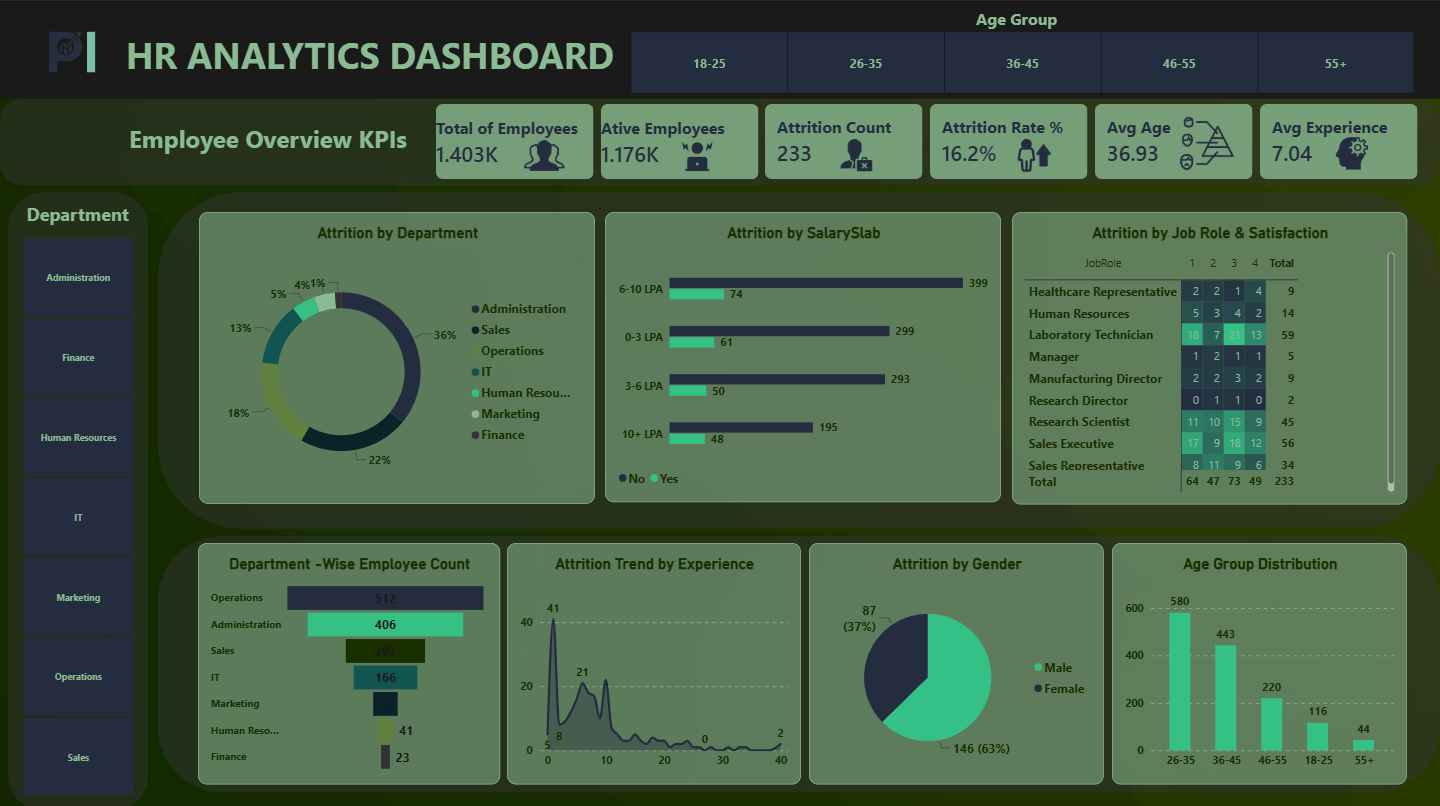

The dashboard page shown, as its layout file describes it:
{"tool":"powerbi","page":{"name":"Page 1","canvas":[1920,1080],"ordinal":0},"visuals":[{"type":"shape","box":[10.7,254.2,186.8,825.3],"z":0},{"type":"shape","box":[210.7,713.2,1709.3,341.9],"z":1000},{"type":"cardVisual","fields":{"Data":["Count(hr_analytics hr_analytics-4.EmpID)"]},"box":[801.5,137.3,210.7,100],"z":2000,"group":"g1"},{"type":"shape","box":[210.7,254.7,1709.3,449.3],"z":2000},{"type":"textbox","box":[0,0,1920,130.1],"z":3000},{"type":"cardVisual","fields":{"Data":["Sum(hr_analytics hr_analytics-4.AttritionCount)"]},"box":[1021.2,137.3,210.7,100],"z":3000,"group":"g1"},{"type":"shape","box":[0,130.1,1920,114.8],"z":4000},{"type":"cardVisual","fields":{"Data":["hr_analytics hr_analytics-4.Attrition Rate"]},"box":[1240.8,137.3,210.7,100],"z":4000,"group":"g1"},{"type":"cardVisual","fields":{"Data":["Count(hr_analytics hr_analytics-4.EmpID)"]},"box":[581.9,137.3,210.7,100],"z":5000,"group":"g1"},{"type":"group","id":"g1","title":"Group 1","box":[581.9,137.3,1308.9,100],"z":5000},{"type":"image","box":[10.3,0,170.9,135.6],"z":6000},{"type":"cardVisual","fields":{"Data":["Avg(hr_analytics hr_analytics-4.Age)"]},"box":[1460.5,137.3,210.7,100],"z":6000,"group":"g1"},{"type":"cardVisual","fields":{"Data":["Avg(hr_analytics hr_analytics-4.YearsAtCompany)"]},"box":[1680.1,137.3,210.7,100],"z":7000,"group":"g1"},{"type":"textbox","box":[171.5,160.8,399.4,55.5],"z":7000},{"type":"donutChart","title":"Attrition by Department","fields":{"Category":["hr_analytics hr_analytics-4.Department"],"Y":["Sum(hr_analytics hr_analytics-4.AttritionCount)"]},"box":[264.9,281.7,528.2,388.9],"z":8000},{"type":"clusteredBarChart","title":"Attrition by SalarySlab","fields":{"Category":["hr_analytics hr_analytics-4.SalarySlab"],"Series":["hr_analytics hr_analytics-4.Attrition"],"Y":["CountNonNull(hr_analytics hr_analytics-4.EmpID)"]},"box":[806.9,281.7,528.2,387.4],"z":9000},{"type":"pivotTable","title":"Attrition by Job Role & Satisfaction","fields":{"Columns":["hr_analytics hr_analytics-4.JobSatisfaction"],"Rows":["hr_analytics hr_analytics-4.JobRole"],"Values":["Sum(hr_analytics hr_analytics-4.AttritionCount)"]},"box":[1348.9,281.7,526.7,390.4],"z":10000},{"type":"columnChart","title":"Age Group Distribution","fields":{"Category":["hr_analytics hr_analytics-4.AgeGroup"],"Y":["hr_analytics hr_analytics-4.Employees Count"]},"box":[1482.1,722.7,393.5,321.5],"z":11000},{"type":"pieChart","title":"Attrition by Gender","fields":{"Category":["hr_analytics hr_analytics-4.Gender"],"Y":["Sum(hr_analytics hr_analytics-4.AttritionCount)"]},"box":[1078.4,722.7,393.5,321.5],"z":12000},{"type":"areaChart","title":"Attrition Trend by Experience","fields":{"Category":["hr_analytics hr_analytics-4.TotalExperience_Years"],"Y":["Sum(hr_analytics hr_analytics-4.AttritionCount)"]},"box":[676.2,722.7,392,321.5],"z":13000},{"type":"funnel","title":"Department -Wise  Employee Count","fields":{"Category":["hr_analytics hr_analytics-4.Department"],"Y":["CountNonNull(hr_analytics hr_analytics-4.EmpID)"]},"box":[263.3,722.7,402.7,321.5],"z":14000},{"type":"slicer","title":"Department","fields":{"Values":["hr_analytics hr_analytics-4.Department"]},"box":[10.3,266.7,185.7,794.2],"z":15000},{"type":"slicer","title":"Age Group","fields":{"Values":["hr_analytics hr_analytics-4.AgeGroup"]},"box":[820.7,39.8,1082.5,84.2],"z":16000},{"type":"image","box":[686.7,180,78.1,53.6],"z":17000},{"type":"image","box":[1776,178.7,53.6,49],"z":18000},{"type":"image","box":[1108,180,62.8,47.5],"z":19000},{"type":"image","box":[1346.7,181.3,64.3,49],"z":20000},{"type":"image","box":[906.7,166.7,45.9,81.1],"z":21000},{"type":"image","box":[1565.3,152,88,76],"z":22000},{"type":"textbox","box":[1301.4,9.2,122.5,30.6],"z":23000}]}

Visuals, with their boxes in screenshot pixels (x1, y1, x2, y2), scaled from the page's 1920x1080 canvas onto the 1440x806 screenshot:
shape: bbox(8, 190, 148, 805)
shape: bbox(158, 532, 1439, 787)
cardVisual - Count(hr_analytics hr_analytics-4.EmpID): bbox(601, 102, 759, 177)
shape: bbox(158, 190, 1439, 525)
textbox: bbox(0, 0, 1439, 97)
cardVisual - Sum(hr_analytics hr_analytics-4.AttritionCount): bbox(766, 102, 924, 177)
shape: bbox(0, 97, 1439, 183)
cardVisual - hr_analytics hr_analytics-4.Attrition Rate: bbox(931, 102, 1089, 177)
cardVisual - Count(hr_analytics hr_analytics-4.EmpID): bbox(436, 102, 594, 177)
"Group 1" group: bbox(436, 102, 1418, 177)
image: bbox(8, 0, 136, 101)
cardVisual - Avg(hr_analytics hr_analytics-4.Age): bbox(1095, 102, 1253, 177)
cardVisual - Avg(hr_analytics hr_analytics-4.YearsAtCompany): bbox(1260, 102, 1418, 177)
textbox: bbox(129, 120, 428, 161)
"Attrition by Department" donutChart: bbox(199, 210, 595, 500)
"Attrition by SalarySlab" clusteredBarChart: bbox(605, 210, 1001, 499)
"Attrition by Job Role & Satisfaction" pivotTable: bbox(1012, 210, 1407, 502)
"Age Group Distribution" columnChart: bbox(1112, 539, 1407, 779)
"Attrition by Gender" pieChart: bbox(809, 539, 1104, 779)
"Attrition Trend by Experience" areaChart: bbox(507, 539, 801, 779)
"Department -Wise  Employee Count" funnel: bbox(197, 539, 500, 779)
"Department" slicer: bbox(8, 199, 147, 792)
"Age Group" slicer: bbox(616, 30, 1427, 93)
image: bbox(515, 134, 574, 174)
image: bbox(1332, 133, 1372, 170)
image: bbox(831, 134, 878, 170)
image: bbox(1010, 135, 1058, 172)
image: bbox(680, 124, 714, 185)
image: bbox(1174, 113, 1240, 170)
textbox: bbox(976, 7, 1068, 30)
